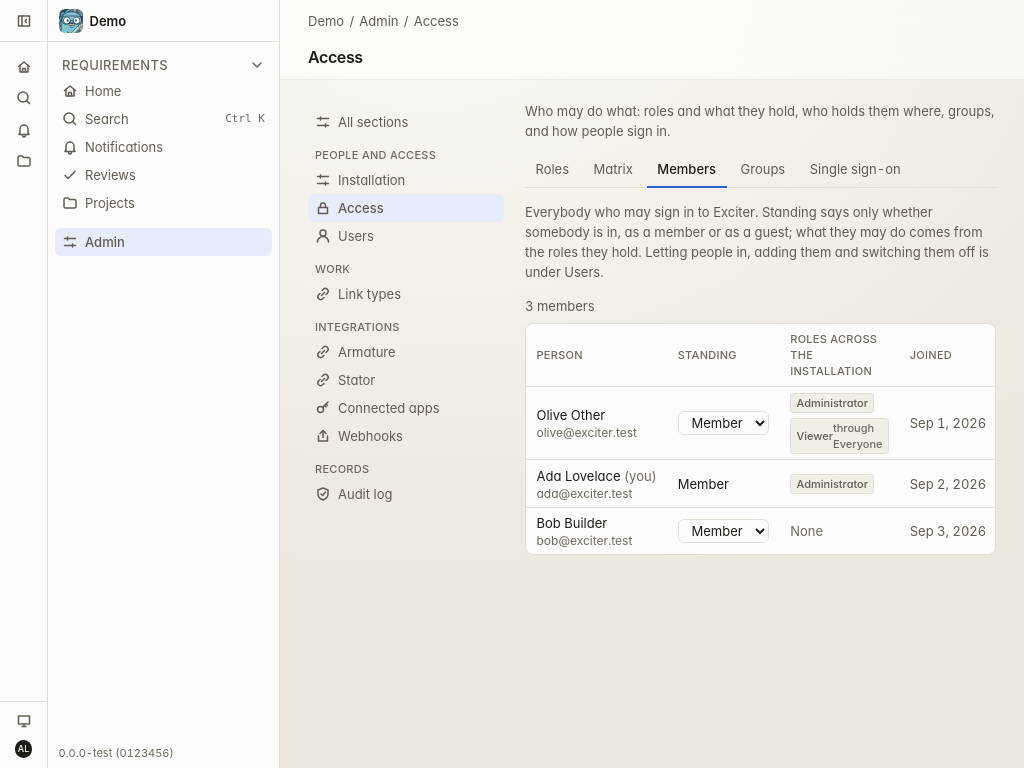
Test: the Members tab › makes somebody a guest and says so
Select "Guest" in the dropdown named "Standing of Bob Builder" at (723, 531), box [678, 519, 769, 543]
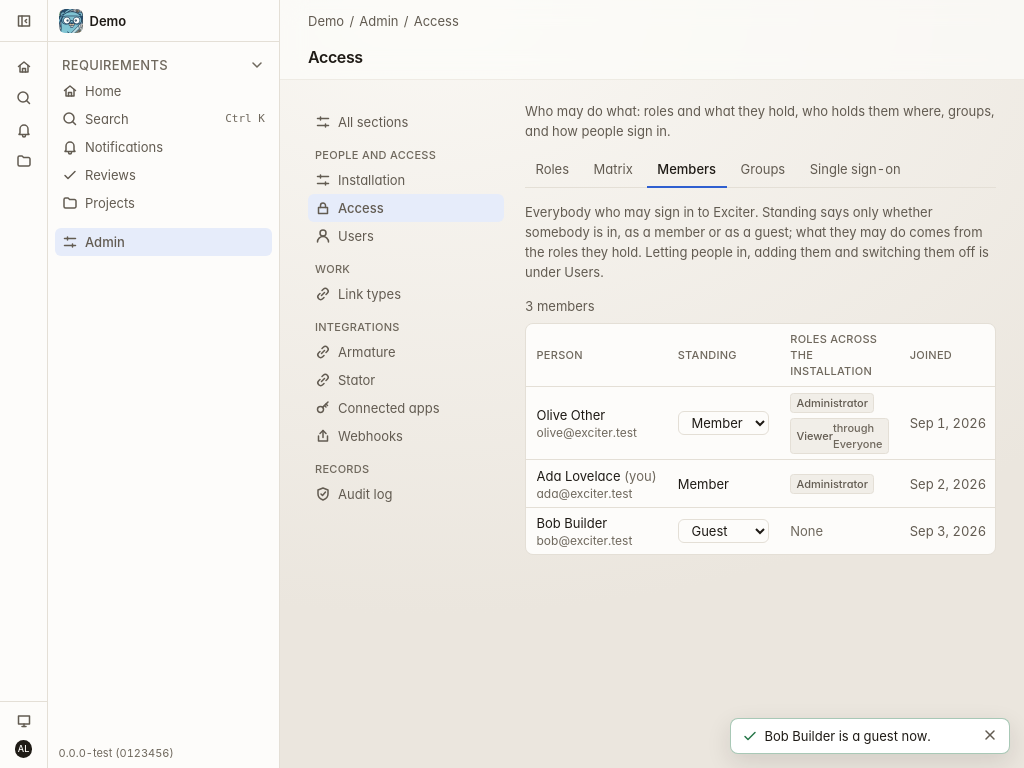
Expected: the text "Bob Builder is a guest now." is shown, [764, 728, 931, 744]
